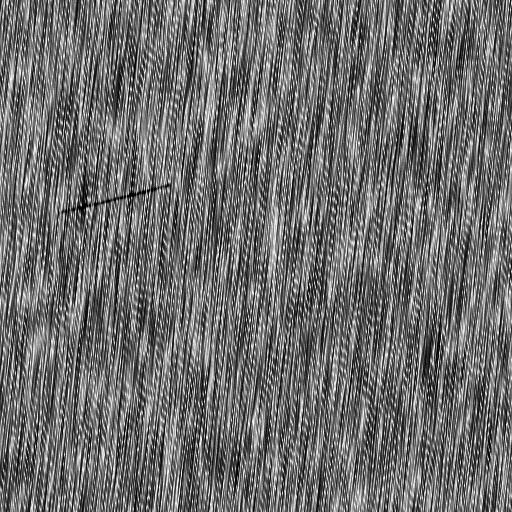DefectTypeC: (60, 181, 164, 212)
